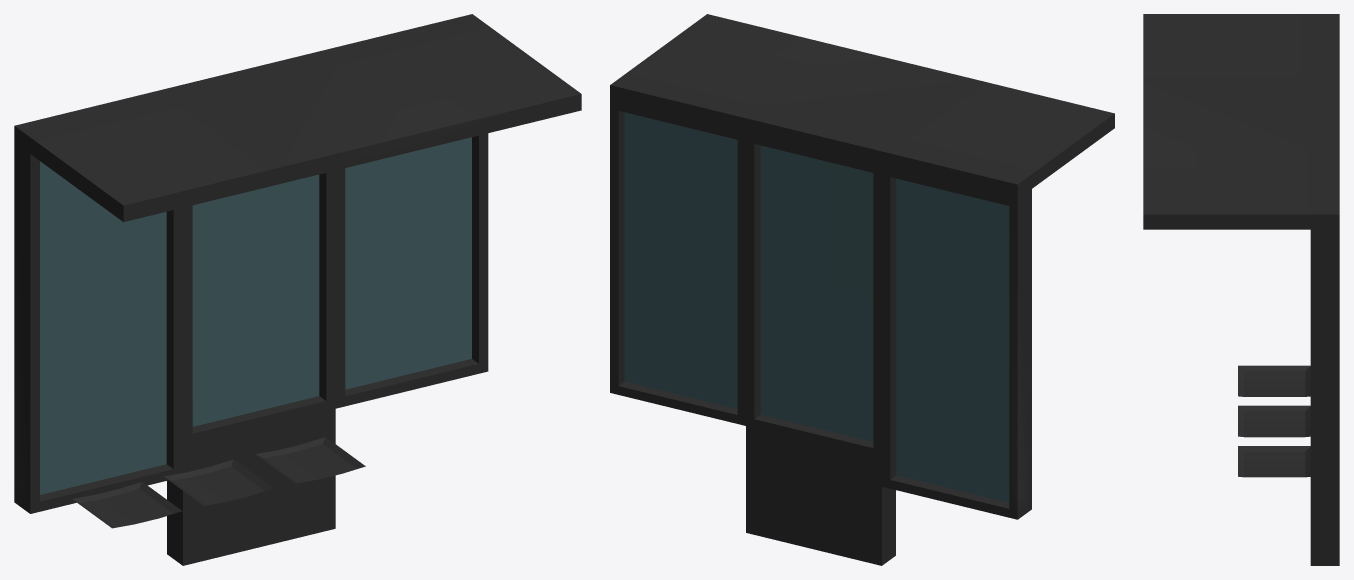
Rendered from InvertedBusStop.fbx.
3 views of the same model, side by side, from view 1: azimuth 30°, elevation 25°; view 2: azimuth 150°, elevation 25°; view 3: azimuth 270°, elevation 25° (orthographic). The views are drawn at different scales.
Visible parts, largest first — view 1: BusStop; view 2: BusStop; view 3: BusStop.
Boxes of the visible parts, <box> form: BusStop: <box>14,14,581,565</box>; BusStop: <box>610,14,1114,565</box>; BusStop: <box>1143,14,1339,565</box>.
Bounding box in the file's own units: 250 × 243 × 103.
